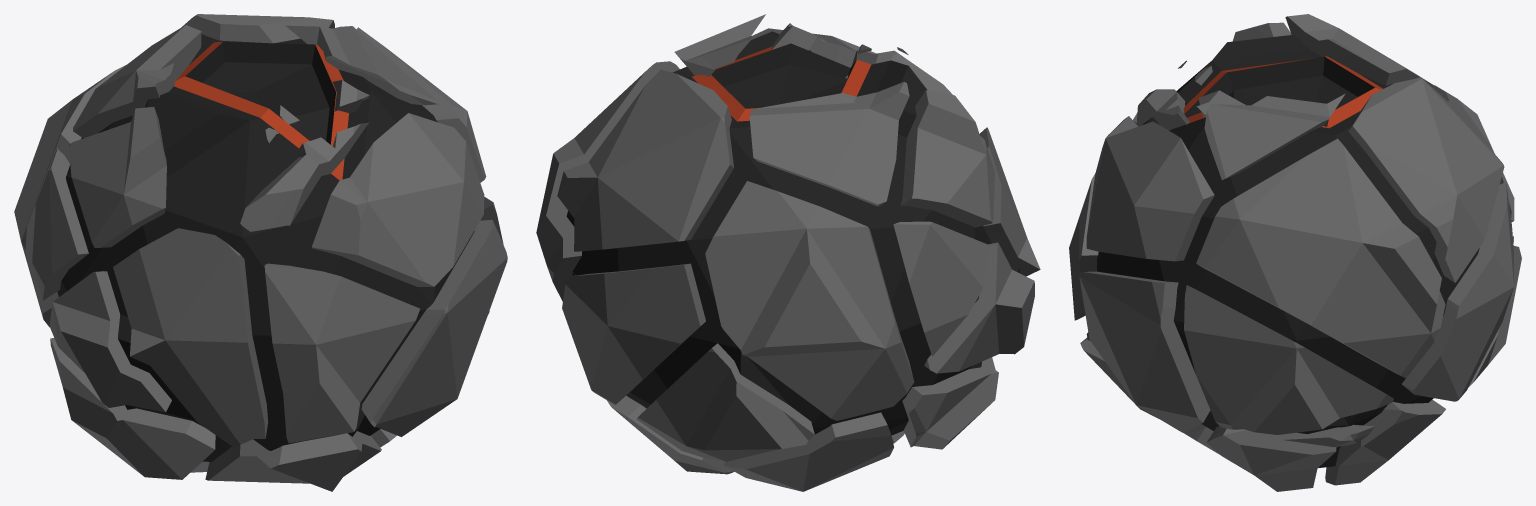
Rendered from Orb.glb.
3 views of the same model, side by side, from view 1: azimuth 30°, elevation 25°; view 2: azimuth 150°, elevation 25°; view 3: azimuth 270°, elevation 25° (orthographic). The views are drawn at different scales.
Parts seen in each view (by area): view 1: Orb; view 2: Orb; view 3: Orb.
Boxes of the visible parts, box(x1,y1,x2,y2) form: Orb: box(14, 14, 507, 491); Orb: box(536, 14, 1040, 491); Orb: box(1069, 14, 1521, 491).
Bounding box in the file's own units: 0.8335 × 0.7746 × 0.7924.
Materials: 1 (1 with a texture image).
